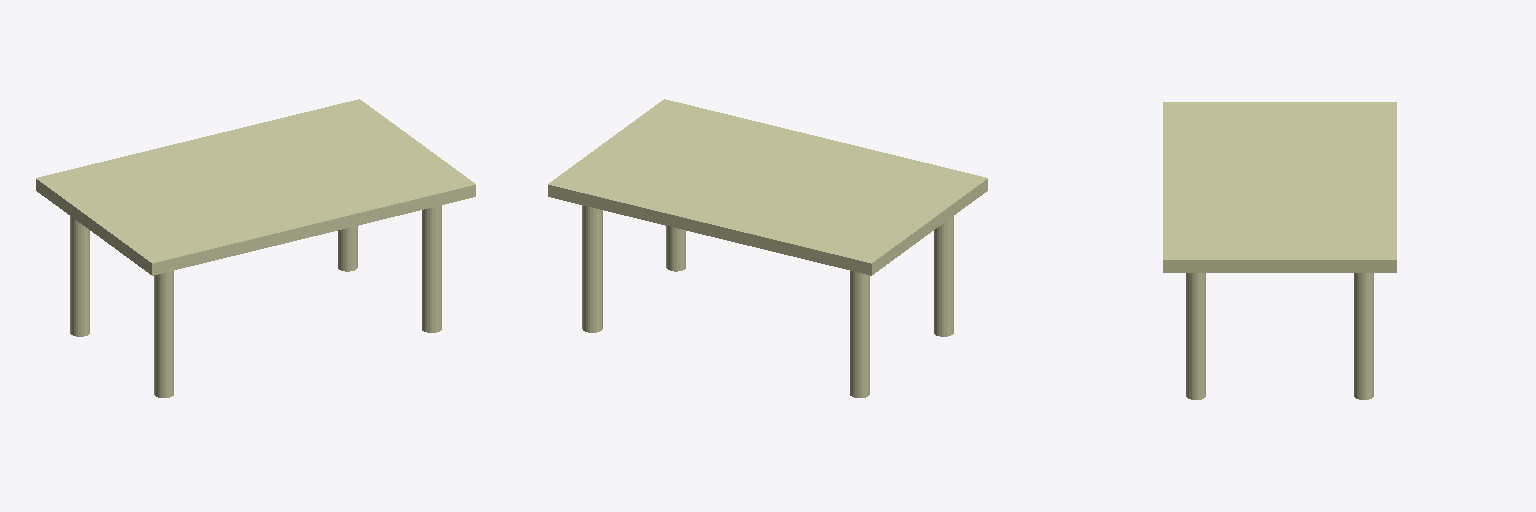
Rendered from table.obj.
3 renders of one model, left to right at view 1: azimuth 30°, elevation 25°; view 2: azimuth 150°, elevation 25°; view 3: azimuth 270°, elevation 25°, orthographic.
Parts seen in each view (by area): view 1: FormFonts_001; view 2: FormFonts_001; view 3: FormFonts_001.
Part boxes in pixels (x1,y1,x2,y2): FormFonts_001: (36,99,475,397); FormFonts_001: (548,99,987,397); FormFonts_001: (1163,102,1396,399).
Size of the model in its own units: 74.38 by 32.75 by 46.38.